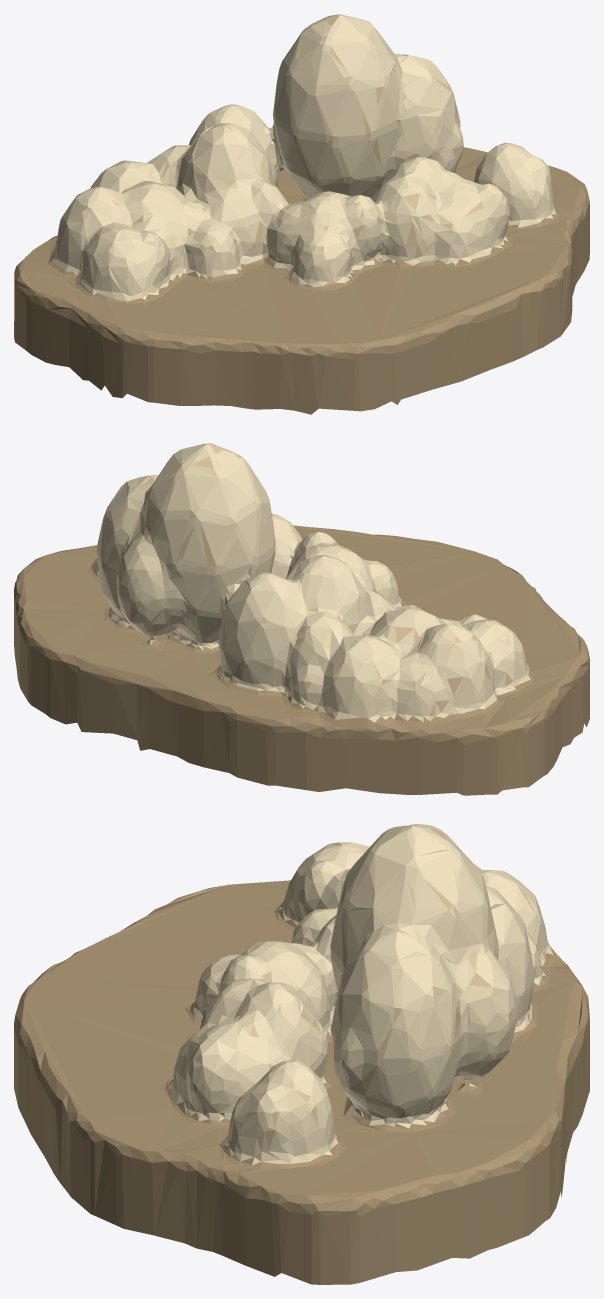
3 views of the same model, one above another, from view 1: azimuth 30°, elevation 25°; view 2: azimuth 150°, elevation 25°; view 3: azimuth 270°, elevation 25° (orthographic). The views are drawn at different scales.
Visible parts, largest first — view 1: cave-popcorn-open-mesh-surface; view 2: cave-popcorn-open-mesh-surface; view 3: cave-popcorn-open-mesh-surface.
Part boxes in pixels (bbox=[...]): cave-popcorn-open-mesh-surface: bbox=[14, 14, 589, 414]; cave-popcorn-open-mesh-surface: bbox=[14, 443, 589, 795]; cave-popcorn-open-mesh-surface: bbox=[14, 824, 589, 1284].
Size of the model in its own units: 0.55 by 0.256 by 0.4.
